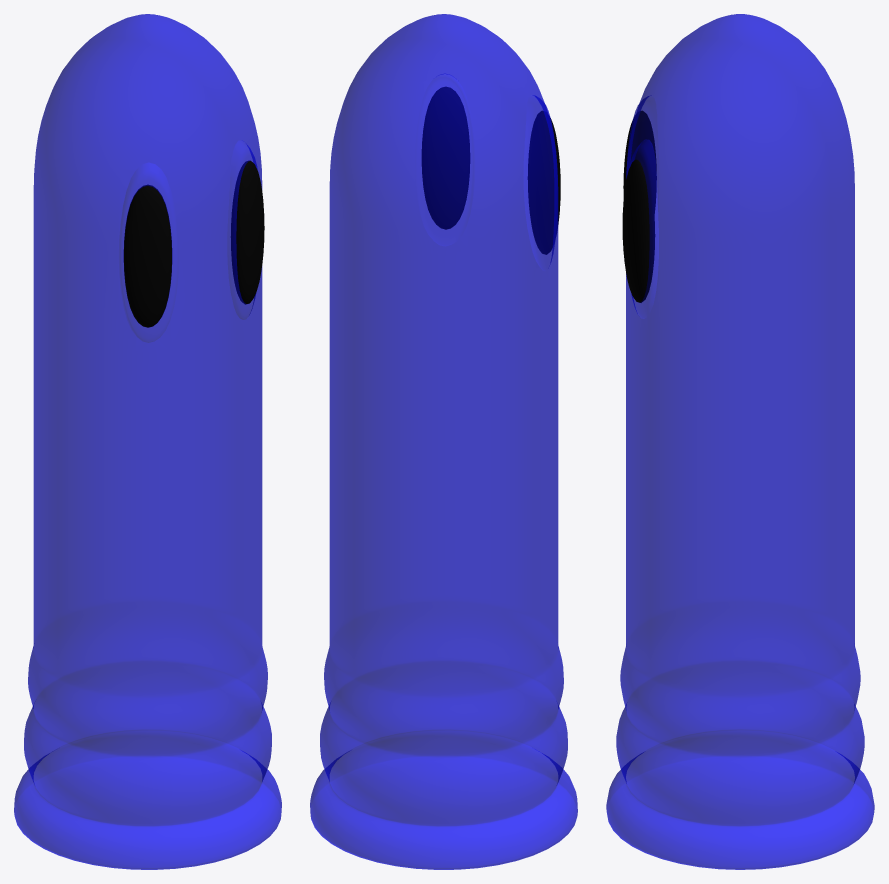
File: Ennemis_BleuMarche.fbx
The picture shows the model from 3 angles, left to right: view 1: azimuth 30°, elevation 25°; view 2: azimuth 150°, elevation 25°; view 3: azimuth 270°, elevation 25°; orthographic projection.
Parts seen in each view (by area): view 1: MonstrePrincipal, Right_Eye, Right_eye; view 2: MonstrePrincipal, Right_eye, Right_Eye; view 3: MonstrePrincipal, Right_eye, Right_Eye.
Part boxes in pixels (bbox=[...]): MonstrePrincipal: bbox=[14, 14, 281, 869]; Right_Eye: bbox=[123, 184, 172, 327]; Right_eye: bbox=[231, 160, 264, 304]; MonstrePrincipal: bbox=[310, 14, 577, 869]; Right_eye: bbox=[421, 86, 470, 229]; Right_Eye: bbox=[527, 110, 560, 254]; MonstrePrincipal: bbox=[606, 14, 874, 869]; Right_eye: bbox=[622, 159, 655, 302]; Right_Eye: bbox=[623, 110, 656, 214].
Size of the model in its own units: 5.72 by 18.81 by 5.72.
